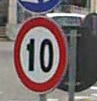limite 10: (12, 17, 69, 91)
